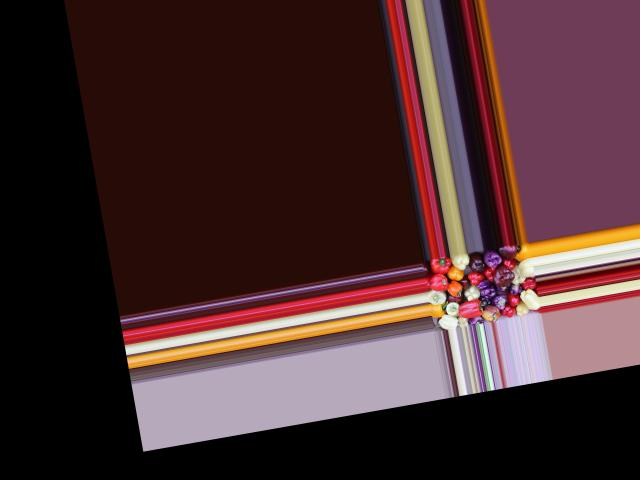bell_pepper: (427, 288, 448, 304)
